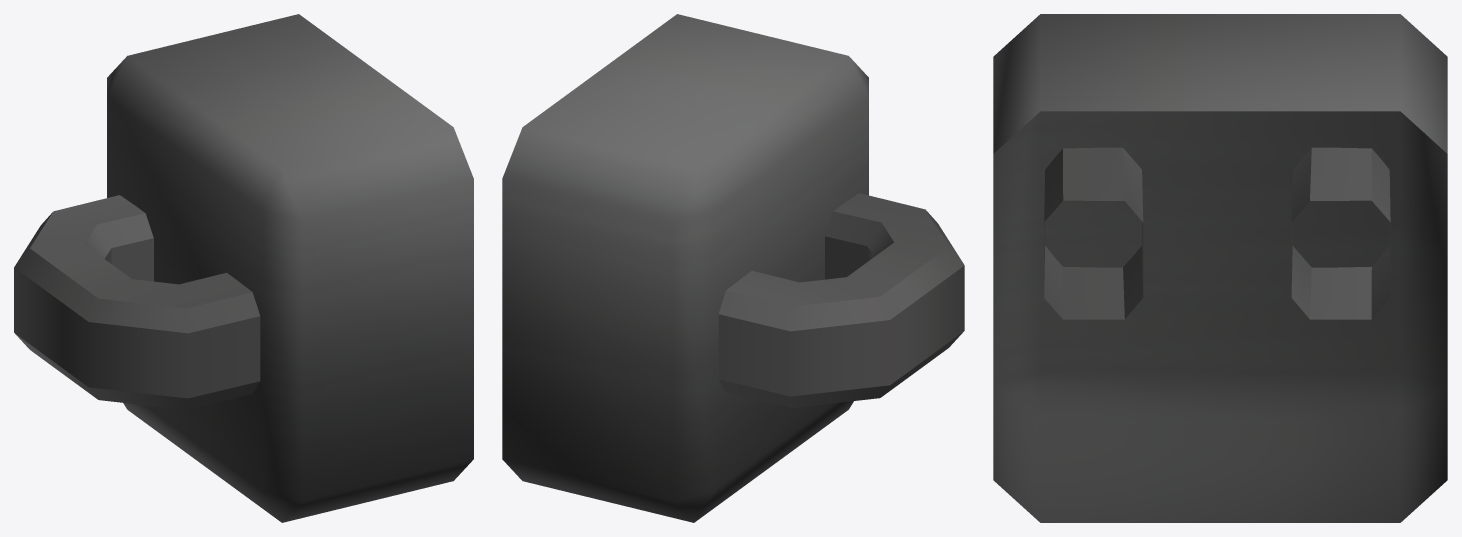
Rendered from ChainCube_1.obj.
The picture shows the model from 3 angles, left to right: view 1: azimuth 30°, elevation 25°; view 2: azimuth 150°, elevation 25°; view 3: azimuth 270°, elevation 25°; orthographic projection. The views are drawn at different scales.
Parts seen in each view (by area): view 1: ChainCube_1; view 2: ChainCube_1; view 3: ChainCube_1.
Part boxes in pixels (x1,y1,x2,y2): ChainCube_1: [14, 14, 473, 522]; ChainCube_1: [502, 14, 964, 522]; ChainCube_1: [993, 14, 1447, 522].
Bounding box in the file's own units: 0.167 × 0.1731 × 0.1731.
